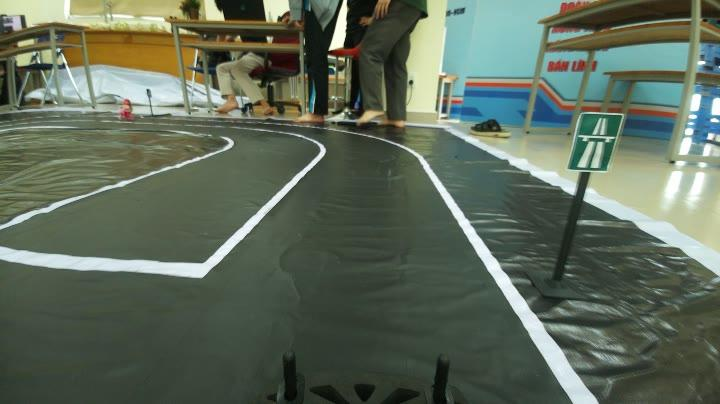highway_entry: (567, 105, 622, 174)
